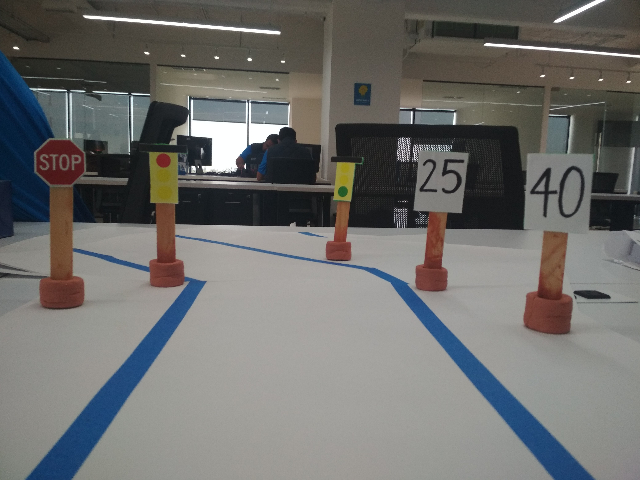Green Traffic Light: (325, 157, 365, 201)
Red Traffic Light: (135, 140, 190, 207)
Speed Limit 25: (408, 149, 471, 215)
Speed Limit 40: (520, 149, 596, 233)
Stop Sign: (31, 136, 89, 190)
